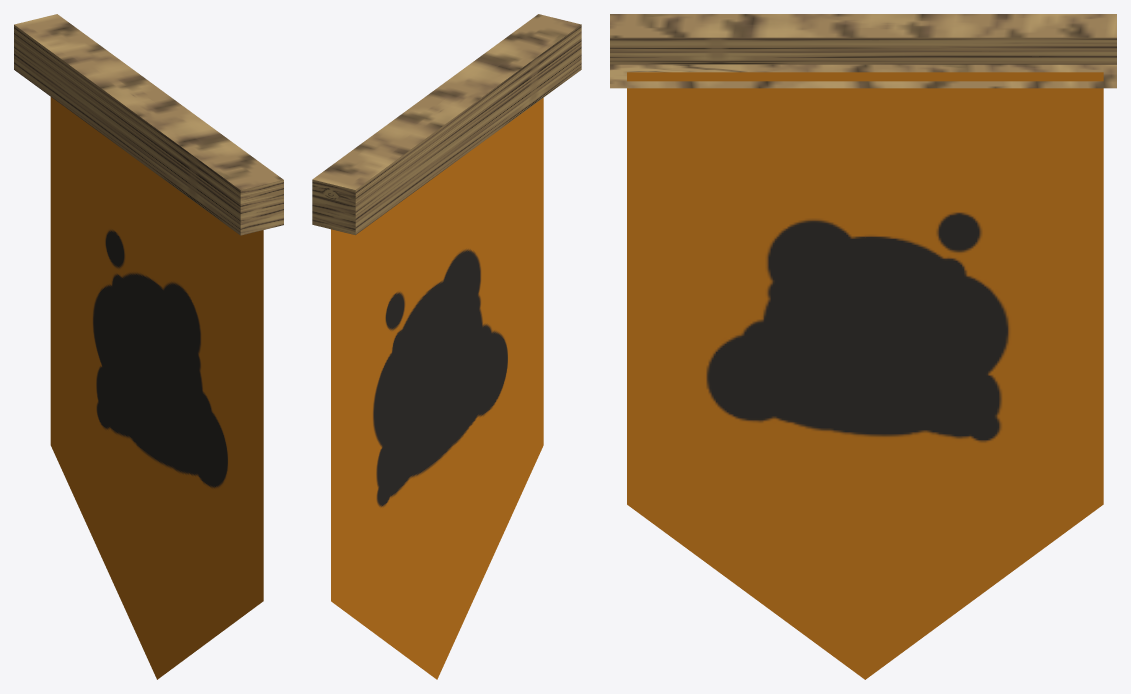
The model's file is kemuriFlag.fbx.
3 views of the same model, side by side, from view 1: azimuth 30°, elevation 25°; view 2: azimuth 150°, elevation 25°; view 3: azimuth 270°, elevation 25° (orthographic). The views are drawn at different scales.
Parts seen in each view (by area): view 1: pPlane16, pCube80; view 2: pPlane16, pCube80; view 3: pPlane16, pCube80.
Boxes of the visible parts, <box> form: pPlane16: <box>50,97,263,679</box>; pCube80: <box>14,14,283,235</box>; pPlane16: <box>331,98,543,679</box>; pCube80: <box>312,14,581,235</box>; pPlane16: <box>627,72,1103,679</box>; pCube80: <box>610,14,1116,88</box>.
Size of the model in its own units: 0.0883 by 1.13 by 0.801.
